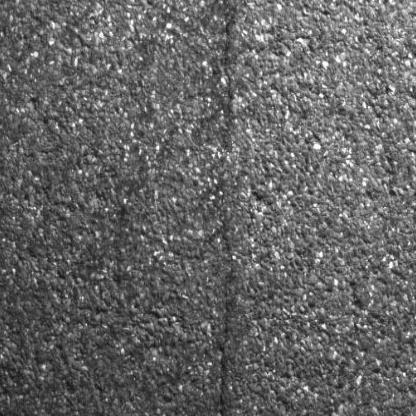Cracks: (214, 217, 240, 416), (219, 8, 241, 151)
